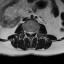CCS_normal: (30, 29, 31, 38)
LFS_normal: (33, 28, 36, 35)
LLS_normal: (31, 29, 33, 36)
RFS_normal: (26, 28, 28, 35)
RLS_normal: (28, 29, 30, 36)
